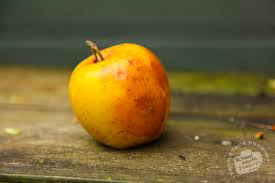damaged_apple: (66, 42, 171, 151)
